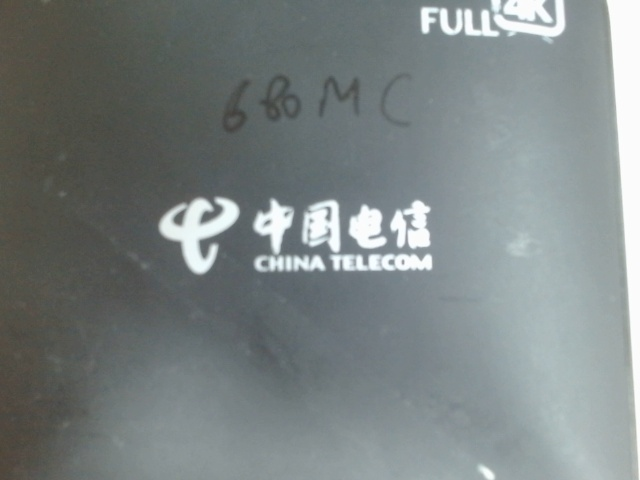AB_ChinaTelecom: (150, 180, 446, 288)
